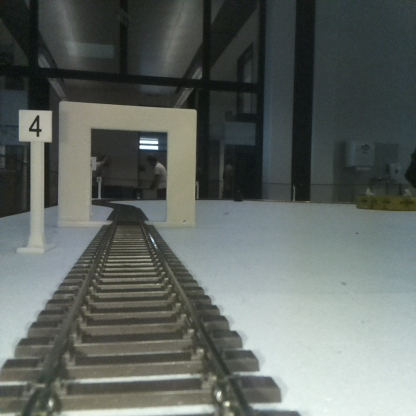white-info-4: (18, 111, 51, 250)
